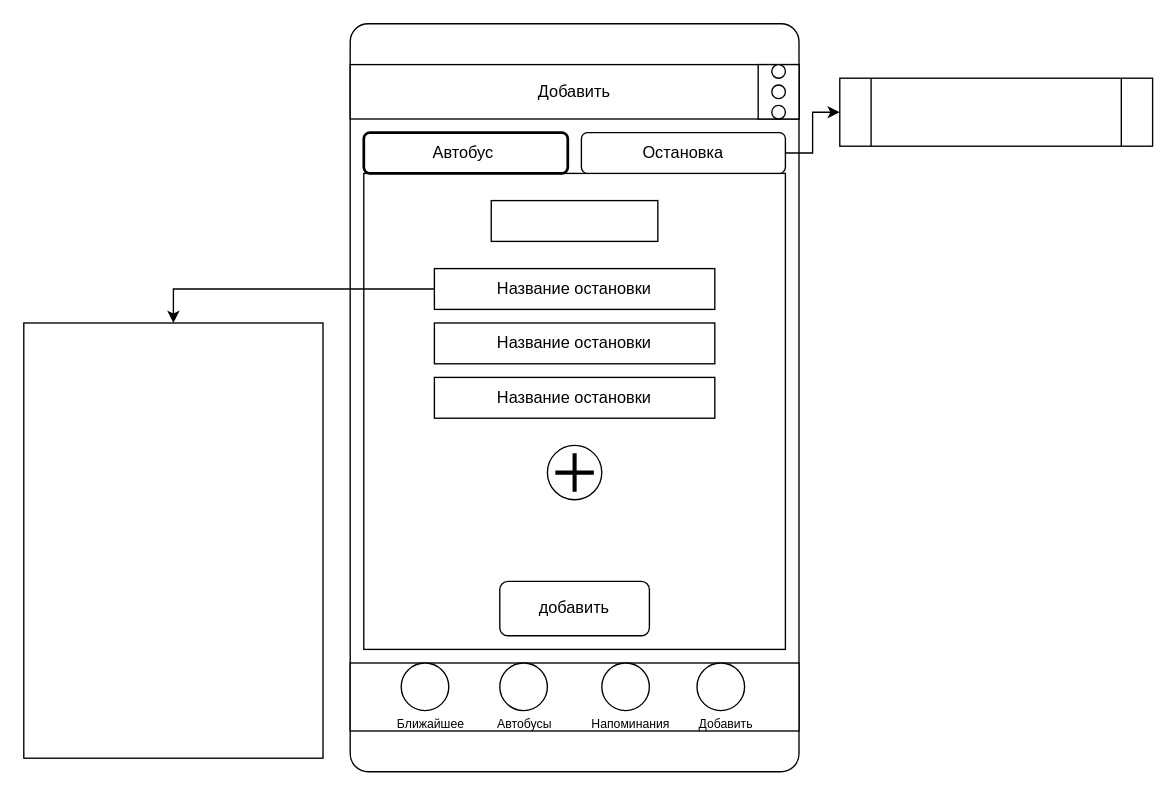
The diagram is 1176 pixels wide and 796 high, and some of its shapes have lost their labels. Each missing label, with the centre of its shape:
Название автобуса: point (574, 220)
Расписание прибытия автобуса (первый, последний, интервал и т.д ): point (172, 540)
Экран как и у добавления автобусов но не указывается расписание автобусов: point (995, 111)
